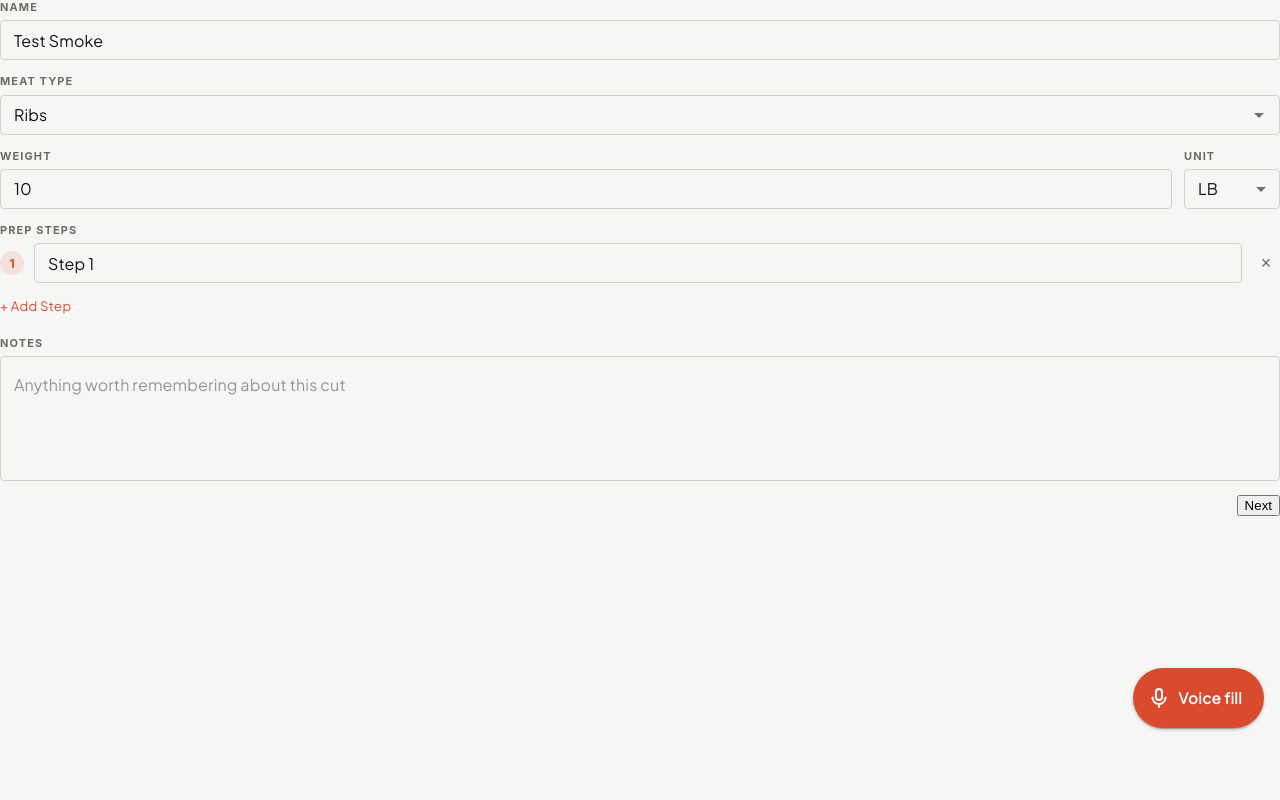
Test: Voice Fill on the pre-smoke screen › Fix the text › in review, makes the transcript editable and Re-read text gives new rows
This screenshot has width=1280, height=800.
expect the field showing "Test Smoke" is shown: met, box x1=0 y1=20 x2=1279 y2=60
Click the button "Voice fill" at (1198, 698), box x1=1133 y1=668 x2=1264 y2=728
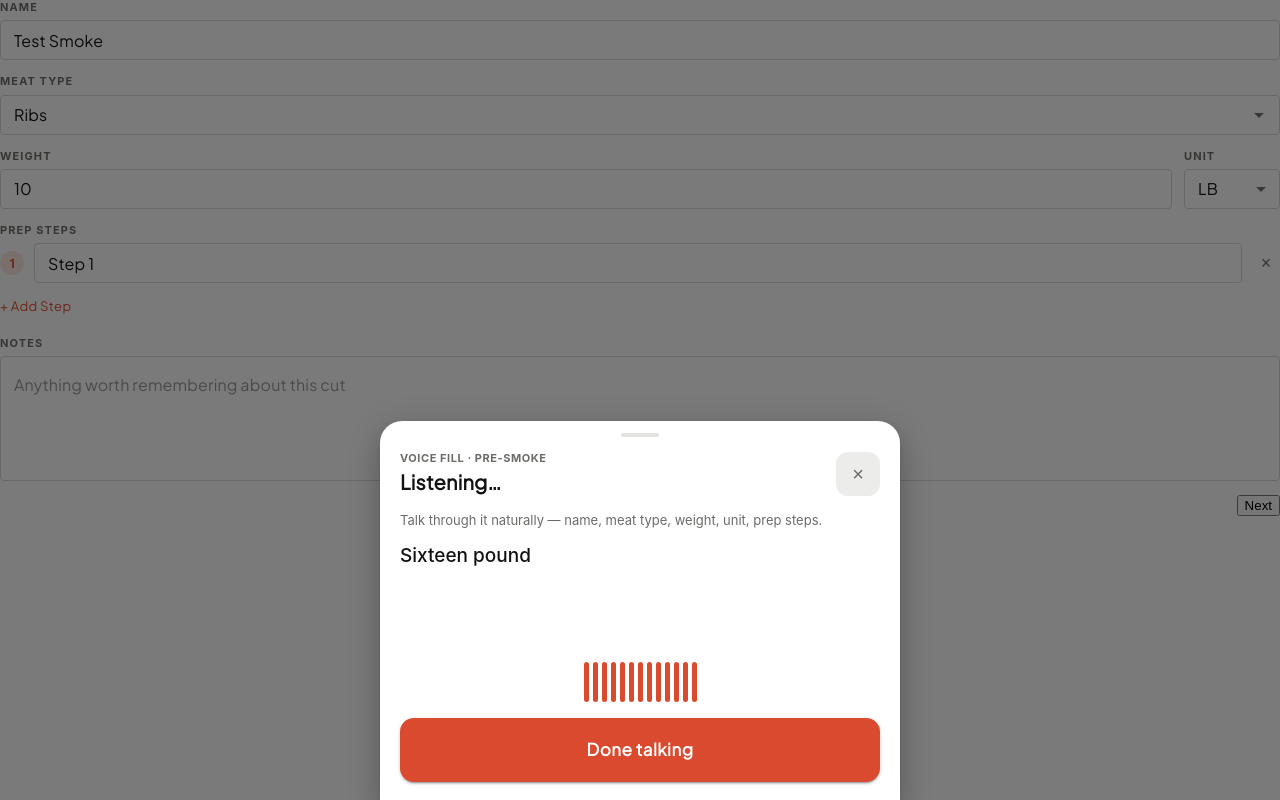
Click the button "Done talking" at (640, 750), box x1=400 y1=718 x2=880 y2=782
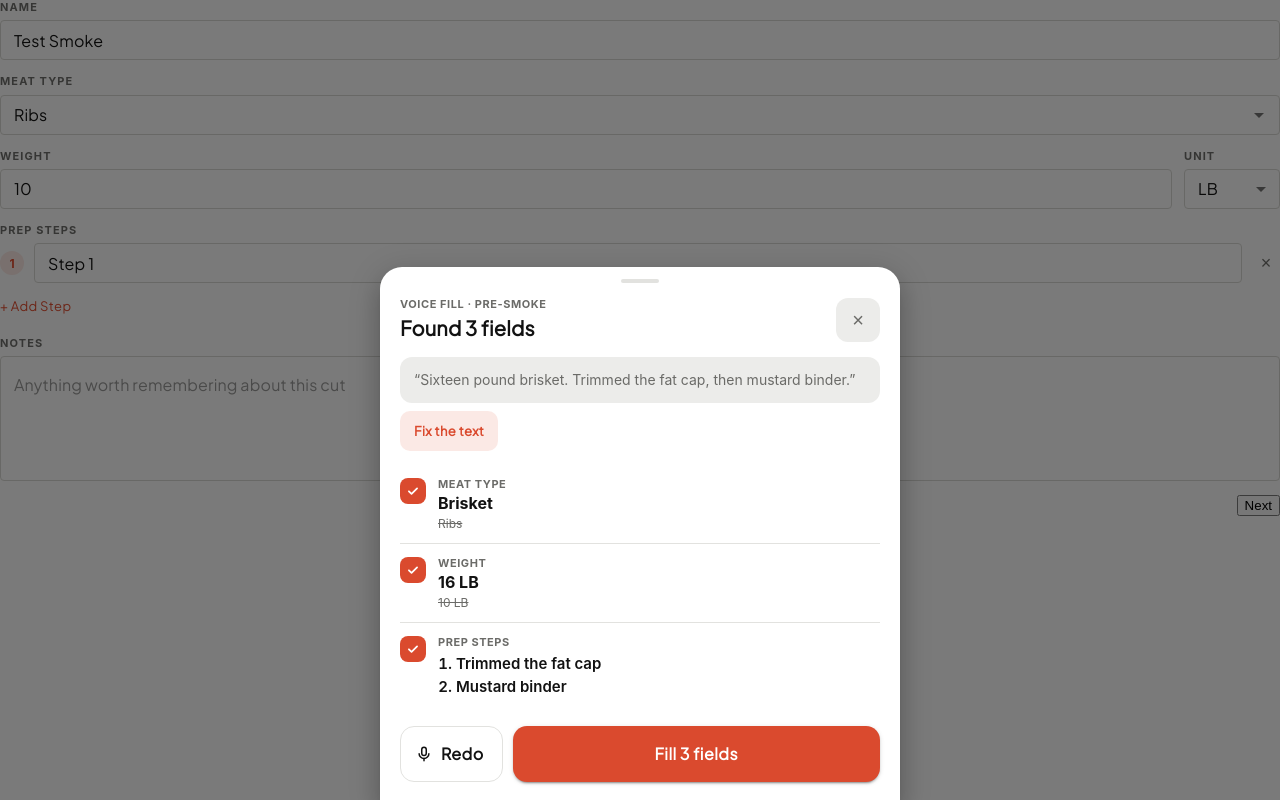
expect the heading "Found 3 fields" is shown: met, box x1=400 y1=313 x2=546 y2=343
Click the button "Fix the text" at (449, 431), box x1=400 y1=411 x2=498 y2=451
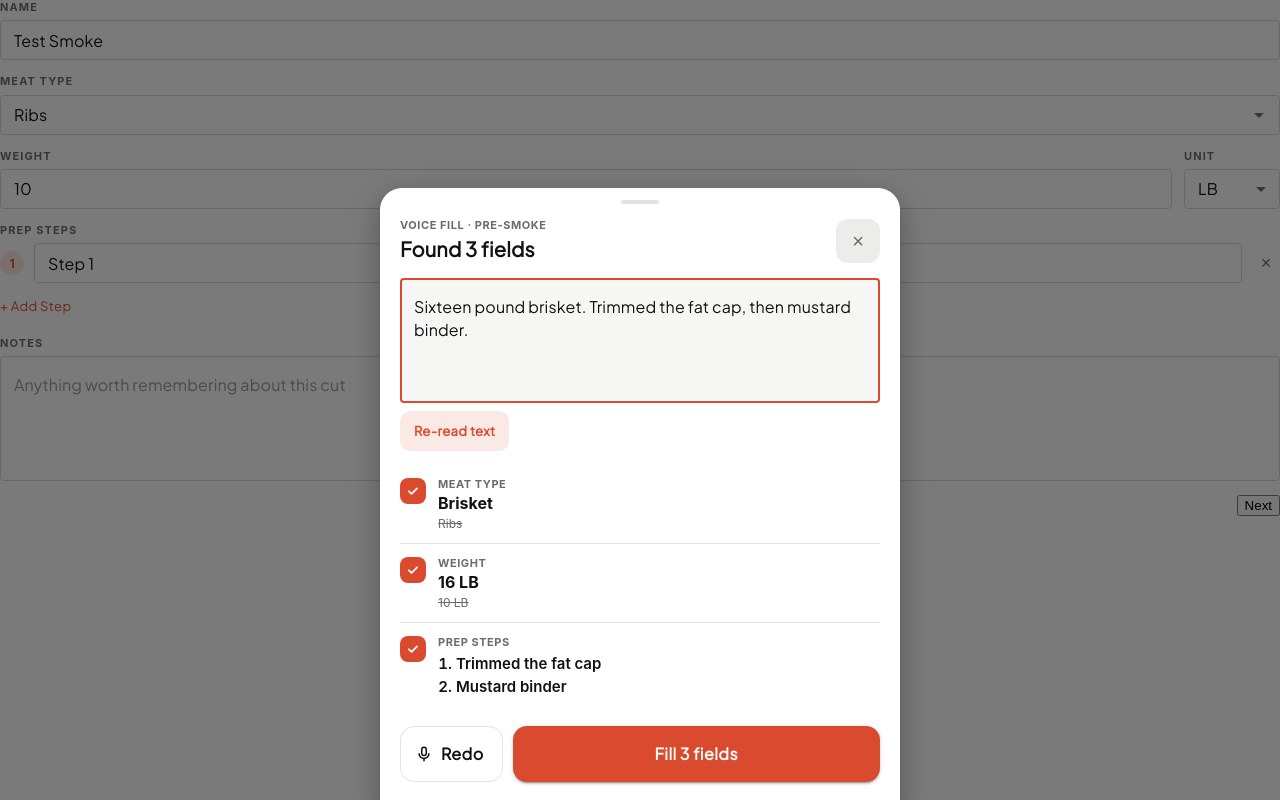
expect the text box named "Transcript" holds "Sixteen pound brisket. Trimmed the fat cap, then mustard binder.": met
Replace the text in the text box named "Transcript" with "Sixty pound brisket." at (640, 340), box x1=414 y1=294 x2=866 y2=386
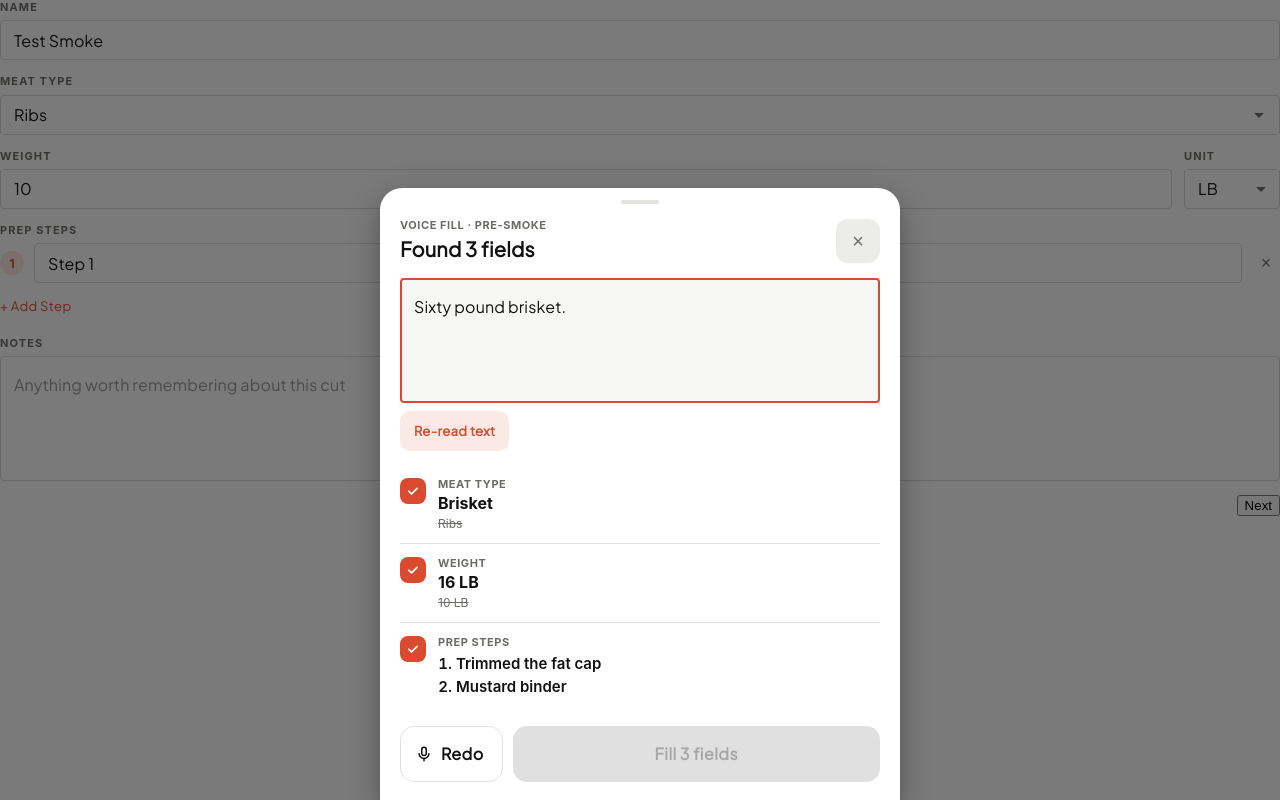
Click the button "Re-read text" at (455, 431), box x1=400 y1=411 x2=510 y2=451
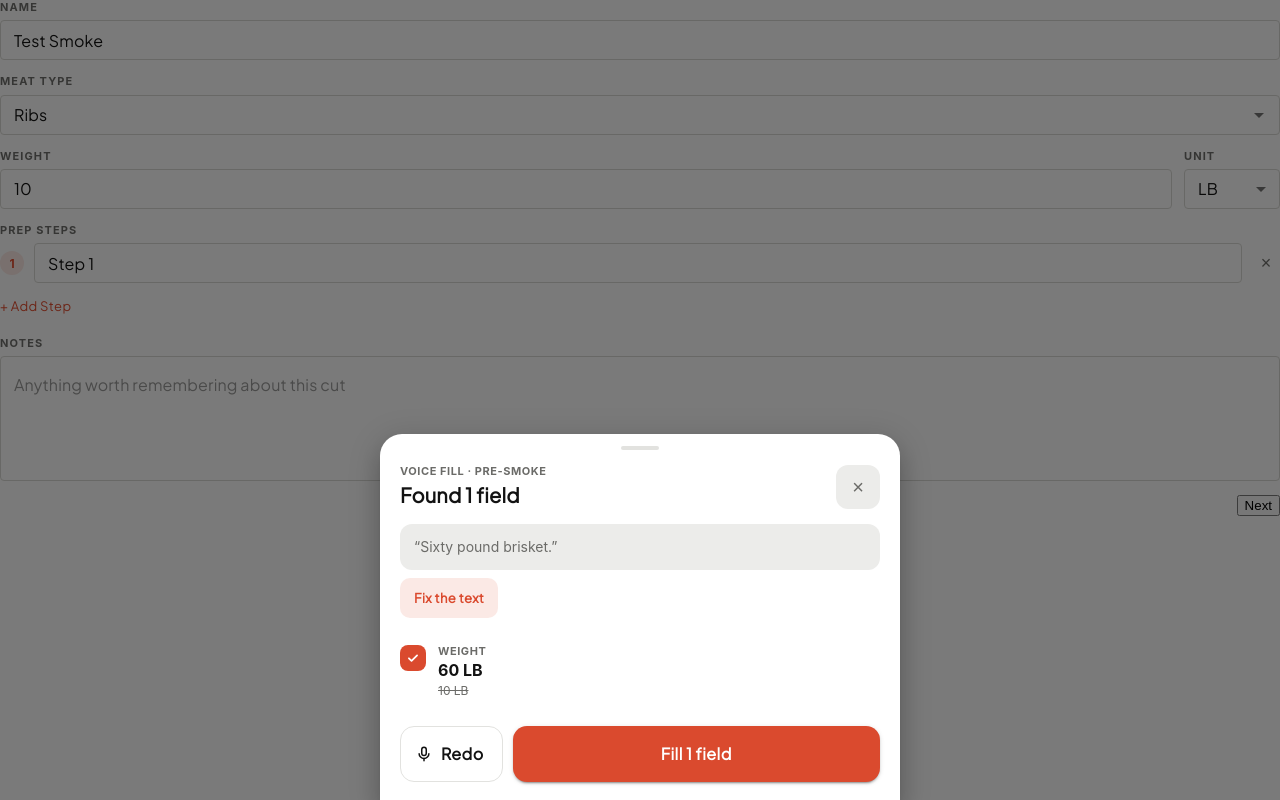
expect the heading "Found 1 field" is shown: met, box x1=400 y1=482 x2=520 y2=507
expect the text "60 LB" is shown: met, box x1=438 y1=660 x2=483 y2=680
expect the text box labelled "Transcript" is gone: met
